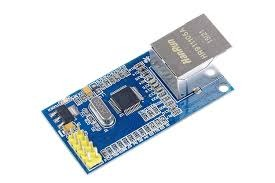Ethernet-W5500: (30, 5, 262, 183)
